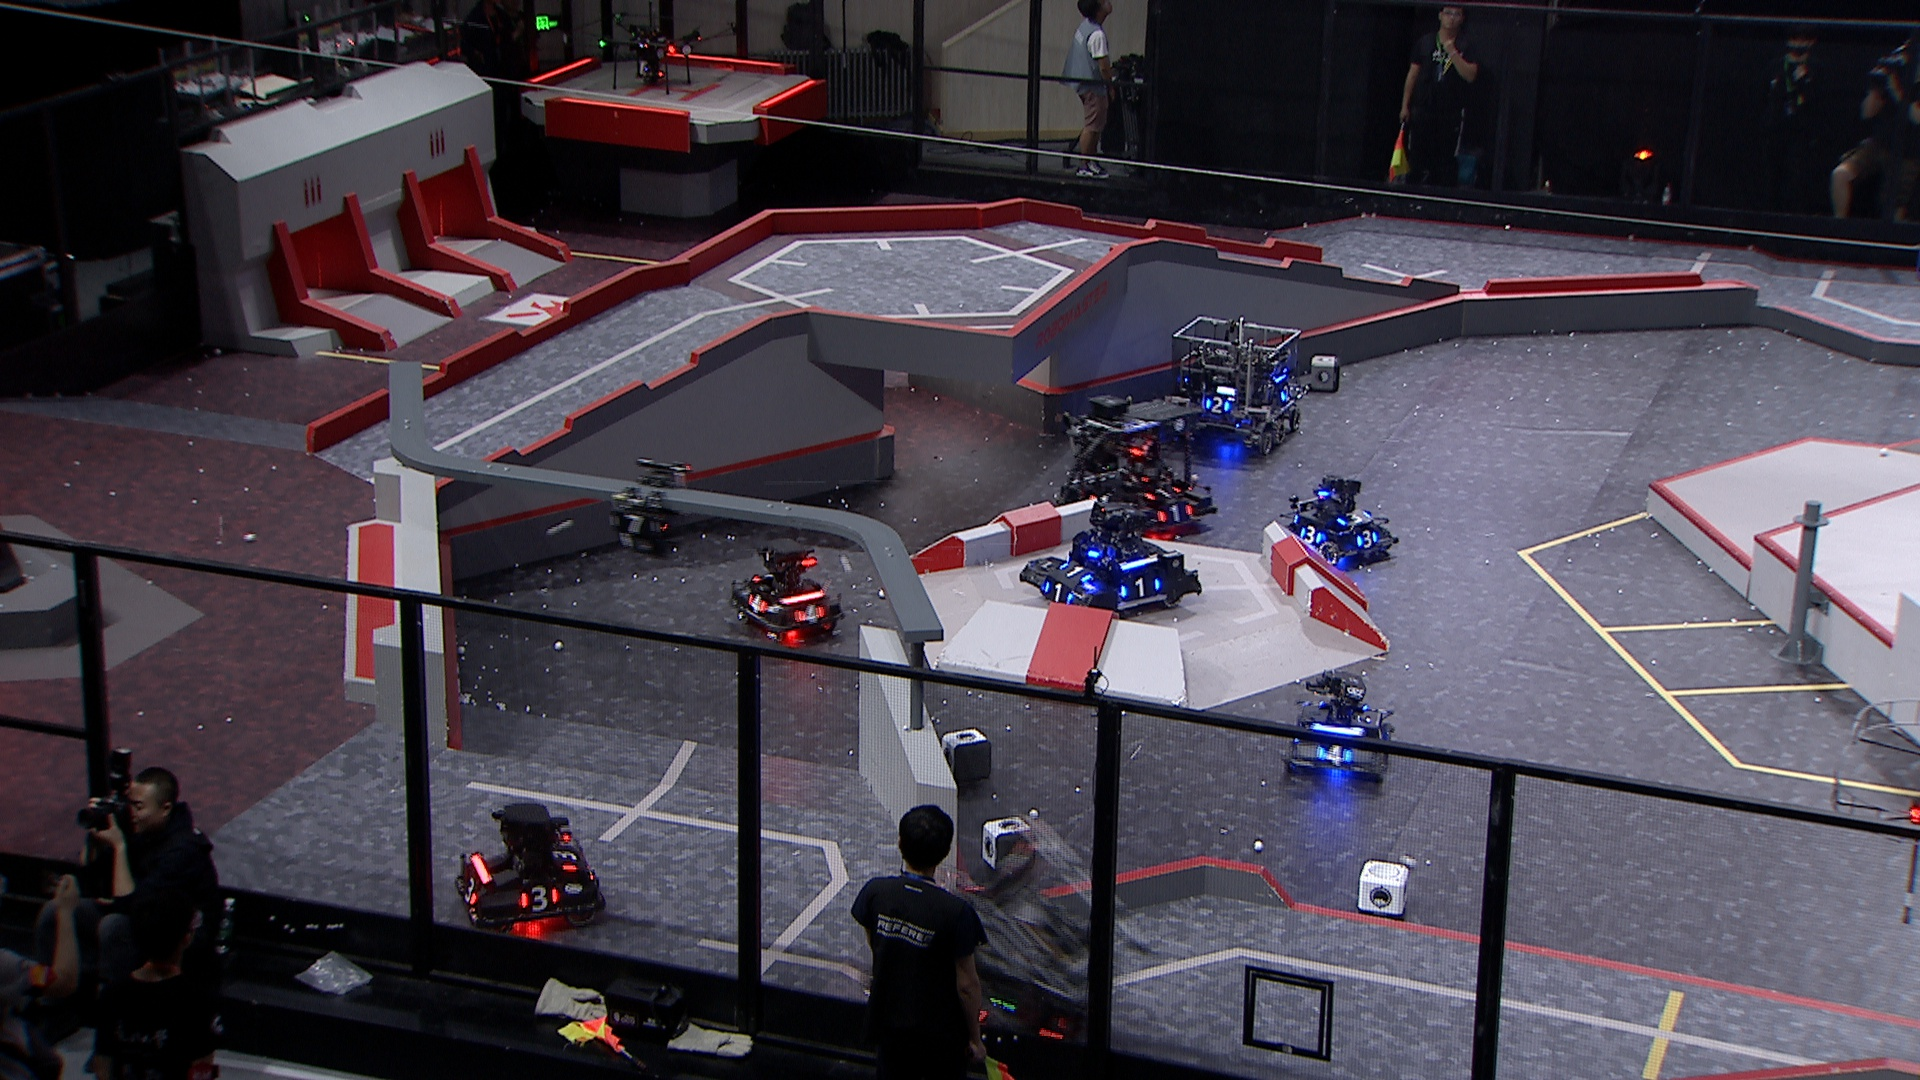armor: (514, 882, 564, 913), (553, 839, 583, 874), (611, 514, 659, 535), (1038, 580, 1077, 605), (1313, 741, 1354, 765), (1158, 501, 1196, 524), (1120, 576, 1158, 597), (1058, 560, 1092, 583), (462, 878, 484, 911), (1201, 394, 1233, 417), (794, 605, 825, 626), (1352, 527, 1379, 549), (1143, 487, 1185, 500), (1337, 512, 1371, 527), (1300, 526, 1325, 547), (746, 593, 769, 616), (1276, 385, 1296, 404)
car: (893, 816, 1149, 1054), (1048, 394, 1220, 537), (1017, 500, 1199, 626), (452, 799, 607, 936), (1160, 315, 1305, 452), (1283, 669, 1399, 789), (728, 535, 849, 642), (1273, 471, 1396, 568)
watcher: (605, 458, 698, 560)
